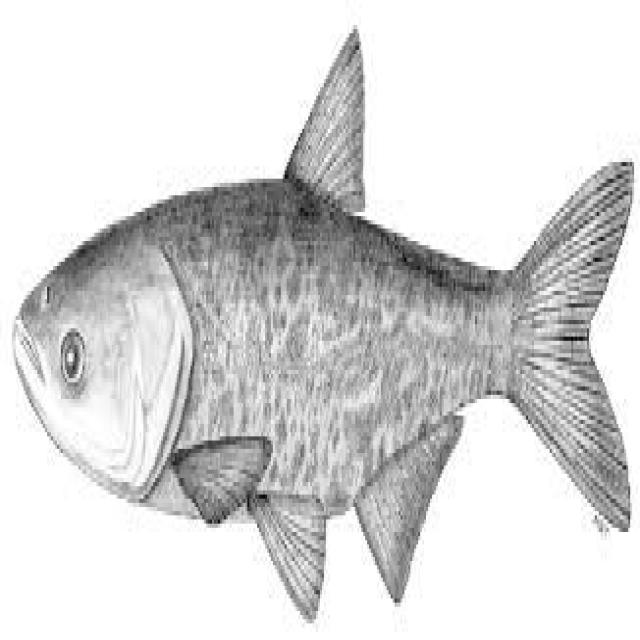Big-Head-Carp: (11, 16, 634, 634), (8, 50, 108, 171)
